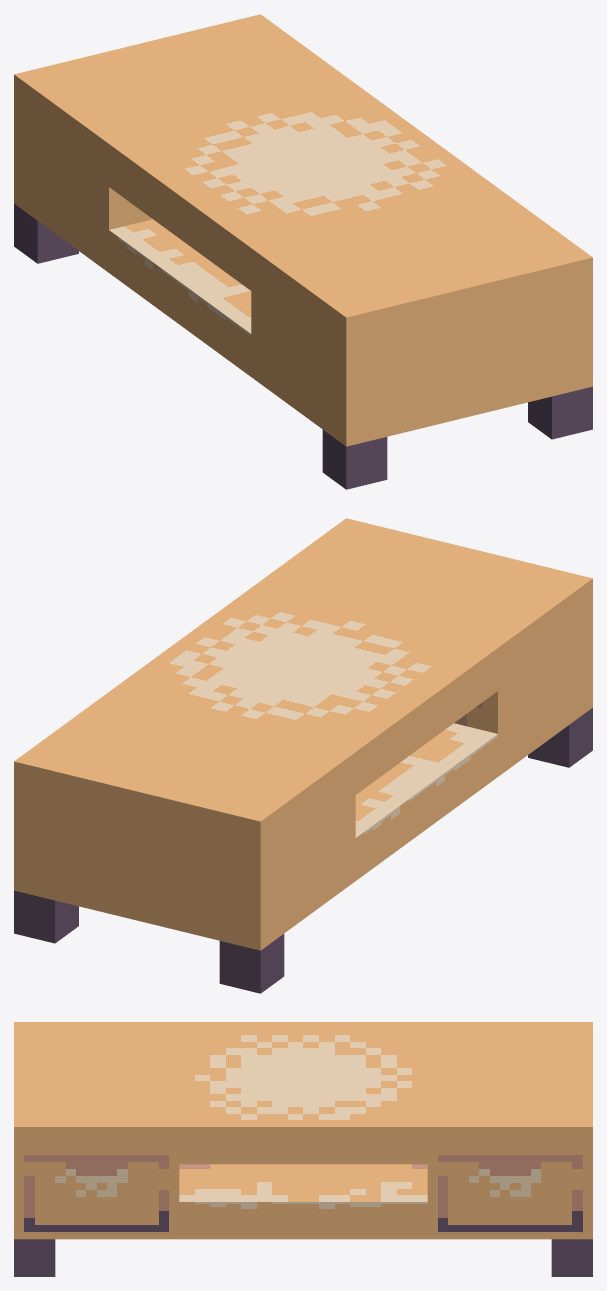
Rendered from meubleTV.gltf.
3 views of the same model, one above another, from view 1: azimuth 30°, elevation 25°; view 2: azimuth 150°, elevation 25°; view 3: azimuth 270°, elevation 25° (orthographic). The views are drawn at different scales.
Size of the model in its own units: 1.5 by 1 by 3.5.
Materials: 1 (1 with a texture image).
